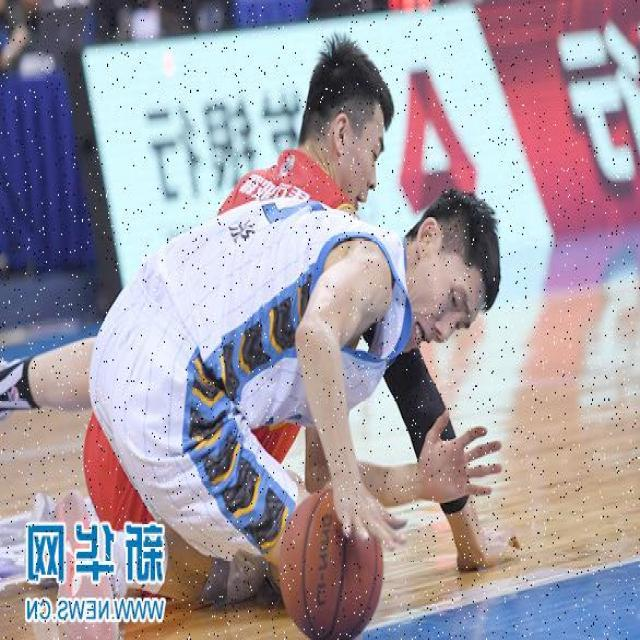fall: (97, 194, 506, 593)
